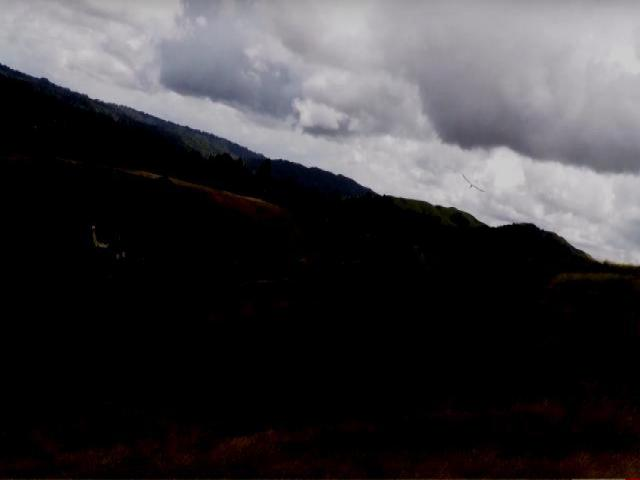iha: (464, 171, 484, 196)
